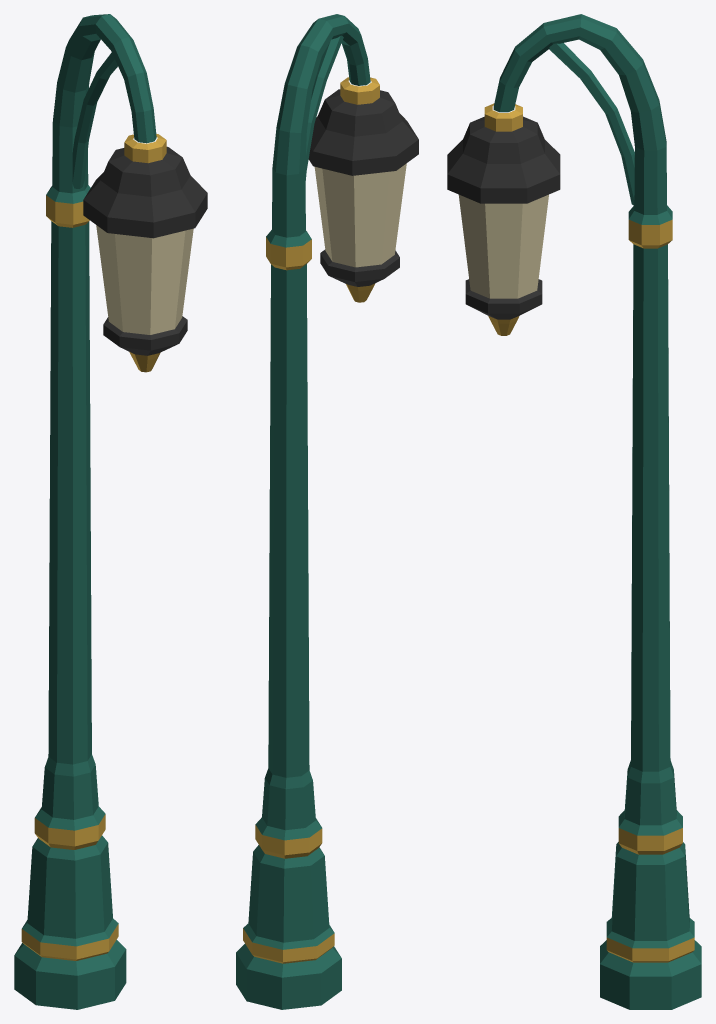
The model's file is sokak_lambasi.glb.
3 renders of one model, left to right at view 1: azimuth 30°, elevation 25°; view 2: azimuth 150°, elevation 25°; view 3: azimuth 270°, elevation 25°, orthographic. The views are drawn at different scales.
Visible parts, largest first — view 1: sokak_lambasi; view 2: sokak_lambasi; view 3: sokak_lambasi.
Part boxes in pixels (box(x1,y1,x2,y2)): sokak_lambasi: box(14, 14, 207, 1009); sokak_lambasi: box(236, 14, 418, 1009); sokak_lambasi: box(447, 14, 701, 1009).
Size of the model in its own units: 0.4 by 3.8 by 0.9.
